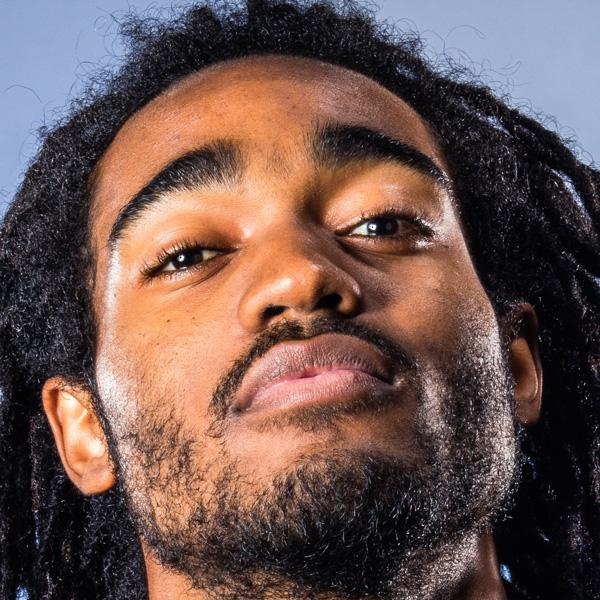Eyes: (135, 214, 248, 296), (310, 182, 438, 254)
